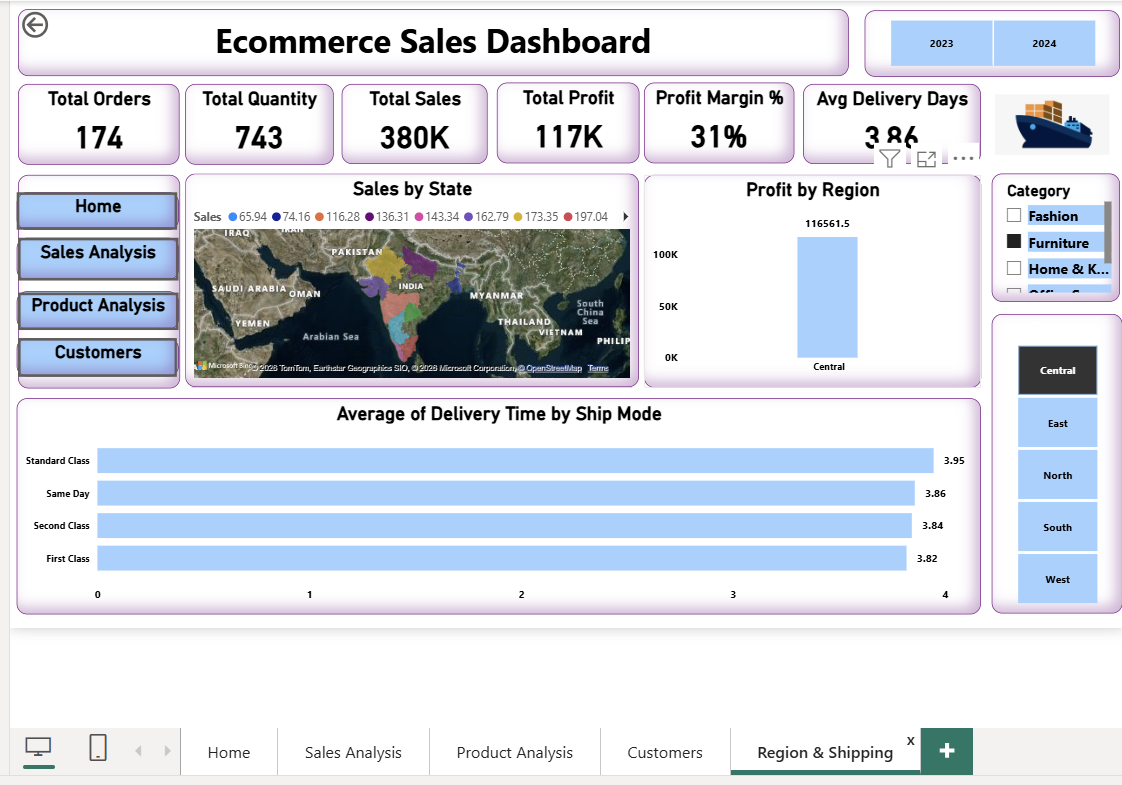

What the dashboard file says about the page in this screenshot:
{"tool":"powerbi","page":{"name":"Region & Shipping","canvas":[1280,720],"ordinal":4},"visuals":[{"type":"textbox","box":[9.6,9.6,953.7,76.8],"z":0},{"type":"slicer","fields":{"Values":["Sheet1.Year"]},"box":[980.8,10.9,293.2,76],"z":1000},{"type":"card","title":"Total Orders","fields":{"Values":["Count(Sheet1.Order ID)"]},"box":[8.6,95.7,185.7,92.9],"z":2000},{"type":"card","title":"Total Quantity","fields":{"Values":["Sum(Sheet1.Quantity)"]},"box":[201.5,95.3,170.1,92.9],"z":3000},{"type":"card","title":"Total Sales","fields":{"Values":["Sum(Sheet1.Sales)"]},"box":[381.2,95.3,167.7,91.7],"z":4000},{"type":"card","title":"Total Profit","fields":{"Values":["Sum(Sheet1.Profit)"]},"box":[558.6,94.1,164.1,92.9],"z":5000},{"type":"card","title":"Profit Margin %","fields":{"Values":["Sheet1.Profit Margin"]},"box":[728.7,94.1,172.5,92.9],"z":6000},{"type":"card","title":"Avg Delivery Days","fields":{"Values":["Sheet1.Average Delivery Days"]},"box":[910.9,95.3,203.9,91.7],"z":7000},{"type":"slicer","fields":{"Values":["Sheet1.Category"]},"box":[1127.1,198.6,147.1,147.1],"z":8000},{"type":"slicer","title":"Region","fields":{"Values":["Sheet1.Region"]},"box":[1127.1,360,150,344.3],"z":9000},{"type":"barChart","title":"Average of Delivery Time by Ship Mode","fields":{"Category":["Sheet1.Ship Mode"],"Y":["Avg(Sheet1.Delivery Daays)"]},"box":[8.2,455.6,1107.4,248.4],"z":10000},{"type":"columnChart","title":"Profit by Region","fields":{"Category":["Sheet1.Region"],"Y":["Sum(Sheet1.Profit)"]},"box":[728.6,199,387,244.3],"z":11000},{"type":"filledMap","title":"Sales by State","fields":{"Category":["Sheet1.State"],"Series":["Sheet1.Sales"]},"box":[201.2,198.8,521.2,245],"z":12000},{"type":"image","box":[1126.7,95,141.7,93.3],"z":13000},{"type":"shape","box":[9,199,186,245],"z":14000},{"type":"shape","title":"Home","box":[8.3,219.4,186.1,43],"z":15000},{"type":"shape","title":"Sales Analysis","box":[8.3,272.2,186.1,48.6],"z":16000},{"type":"shape","title":"Product Analysis","box":[8.3,333.3,186.1,44.4],"z":17000},{"type":"shape","title":"Customers","box":[8.3,387.4,186.1,44.4],"z":18000},{"type":"actionButton","box":[9.6,8.2,57.6,39.8],"z":19000},{"type":"actionButton","box":[9.2,387.1,182.8,44.5],"z":20000},{"type":"actionButton","box":[9.2,334.9,184.3,43],"z":21000},{"type":"actionButton","box":[9.2,271.9,184.3,49.2],"z":22000},{"type":"actionButton","box":[7.7,219.7,184.3,43],"z":23000}]}

Visuals, with their boxes on the page's 1280x720 design canvas (x1, y1, x2, y2). These are canvas units, not pixel positions in the 1122x785 screenshot, which may show the page scaled, cropped or inside an application window:
textbox: pyautogui.locateOnScreen(10, 10, 963, 86)
slicer - Sheet1.Year: pyautogui.locateOnScreen(981, 11, 1274, 87)
"Total Orders" card: pyautogui.locateOnScreen(9, 96, 194, 189)
"Total Quantity" card: pyautogui.locateOnScreen(202, 95, 372, 188)
"Total Sales" card: pyautogui.locateOnScreen(381, 95, 549, 187)
"Total Profit" card: pyautogui.locateOnScreen(559, 94, 723, 187)
"Profit Margin %" card: pyautogui.locateOnScreen(729, 94, 901, 187)
"Avg Delivery Days" card: pyautogui.locateOnScreen(911, 95, 1115, 187)
slicer - Sheet1.Category: pyautogui.locateOnScreen(1127, 199, 1274, 346)
"Region" slicer: pyautogui.locateOnScreen(1127, 360, 1277, 704)
"Average of Delivery Time by Ship Mode" barChart: pyautogui.locateOnScreen(8, 456, 1116, 704)
"Profit by Region" columnChart: pyautogui.locateOnScreen(729, 199, 1116, 443)
"Sales by State" filledMap: pyautogui.locateOnScreen(201, 199, 722, 444)
image: pyautogui.locateOnScreen(1127, 95, 1268, 188)
shape: pyautogui.locateOnScreen(9, 199, 195, 444)
"Home" shape: pyautogui.locateOnScreen(8, 219, 194, 262)
"Sales Analysis" shape: pyautogui.locateOnScreen(8, 272, 194, 321)
"Product Analysis" shape: pyautogui.locateOnScreen(8, 333, 194, 378)
"Customers" shape: pyautogui.locateOnScreen(8, 387, 194, 432)
actionButton: pyautogui.locateOnScreen(10, 8, 67, 48)
actionButton: pyautogui.locateOnScreen(9, 387, 192, 432)
actionButton: pyautogui.locateOnScreen(9, 335, 194, 378)
actionButton: pyautogui.locateOnScreen(9, 272, 194, 321)
actionButton: pyautogui.locateOnScreen(8, 220, 192, 263)
